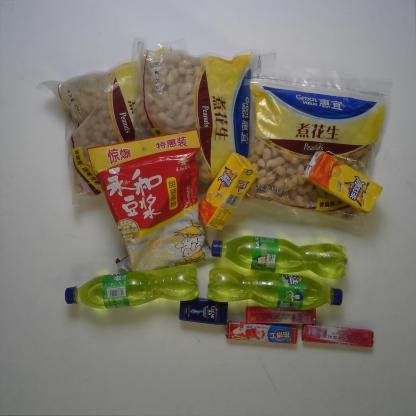Candy: (301, 322, 382, 353), (223, 319, 304, 350), (242, 301, 320, 329)
Dried Food: (42, 52, 208, 192), (242, 67, 392, 216), (131, 35, 269, 196)
Drink: (58, 260, 206, 313), (204, 234, 356, 285), (208, 265, 358, 312), (301, 154, 388, 220), (197, 154, 263, 233)
Instant Drink: (90, 127, 212, 268)
Personal Hygiene: (175, 291, 232, 328)
